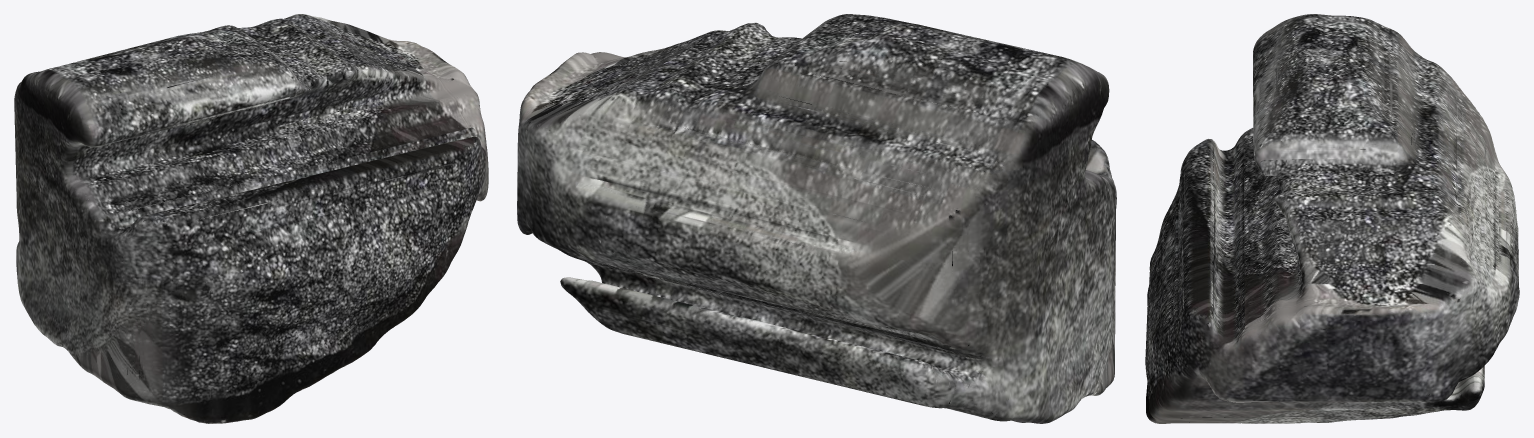
File: 10oclock.glb
3 renders of one model, left to right at view 1: azimuth 30°, elevation 25°; view 2: azimuth 150°, elevation 25°; view 3: azimuth 270°, elevation 25°, orthographic. The views are drawn at different scales.
Parts seen in each view (by area): view 1: Rock; view 2: Rock; view 3: Rock.
Boxes of the visible parts, x1=… form: Rock: x1=14, y1=14, x2=488, y2=423; Rock: x1=517, y1=14, x2=1116, y2=423; Rock: x1=1145, y1=14, x2=1519, y2=423.
Size of the model in its own units: 0.9075 by 0.6651 by 0.6646.
Materials: 1 (1 with a texture image).
